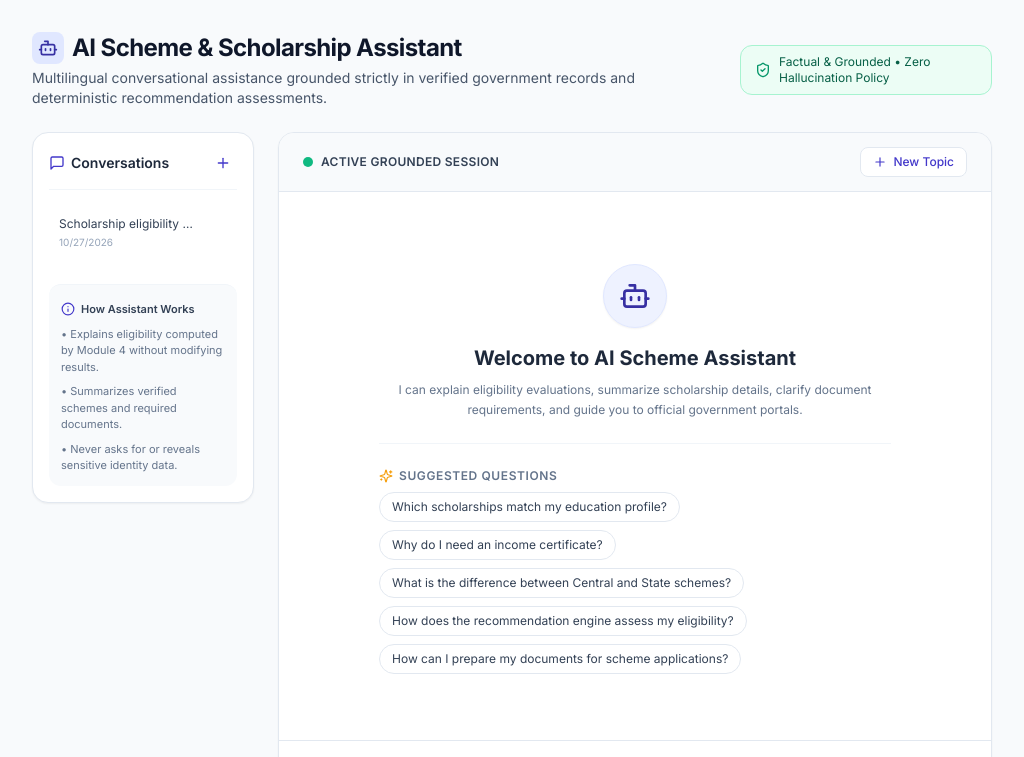
Test: AssistantPage Component (Module 8) › loads and displays conversation messages when clicking a conversation item
Click the text "Scholarship eligibility question" at (126, 224), box [59,216,193,232]
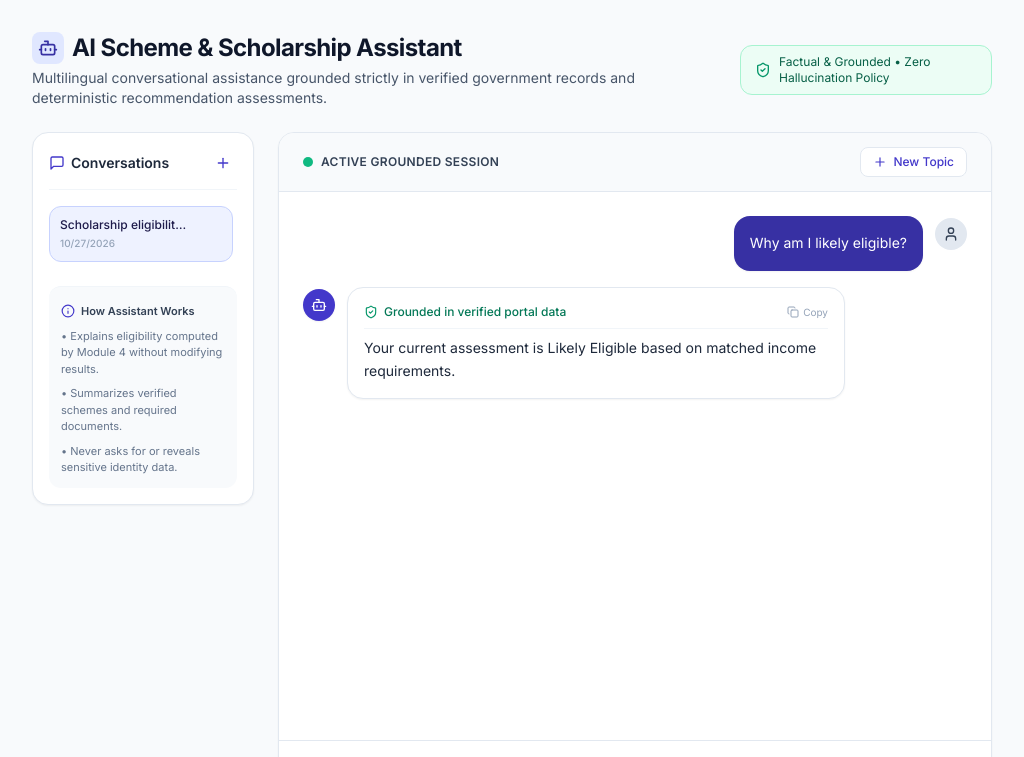
Result: the text "Why am I likely eligible?" is shown at [750,232,907,255]
Result: the text "Your current assessment is Likely Eligible based on matched income requirements." is shown at [364,337,828,382]
